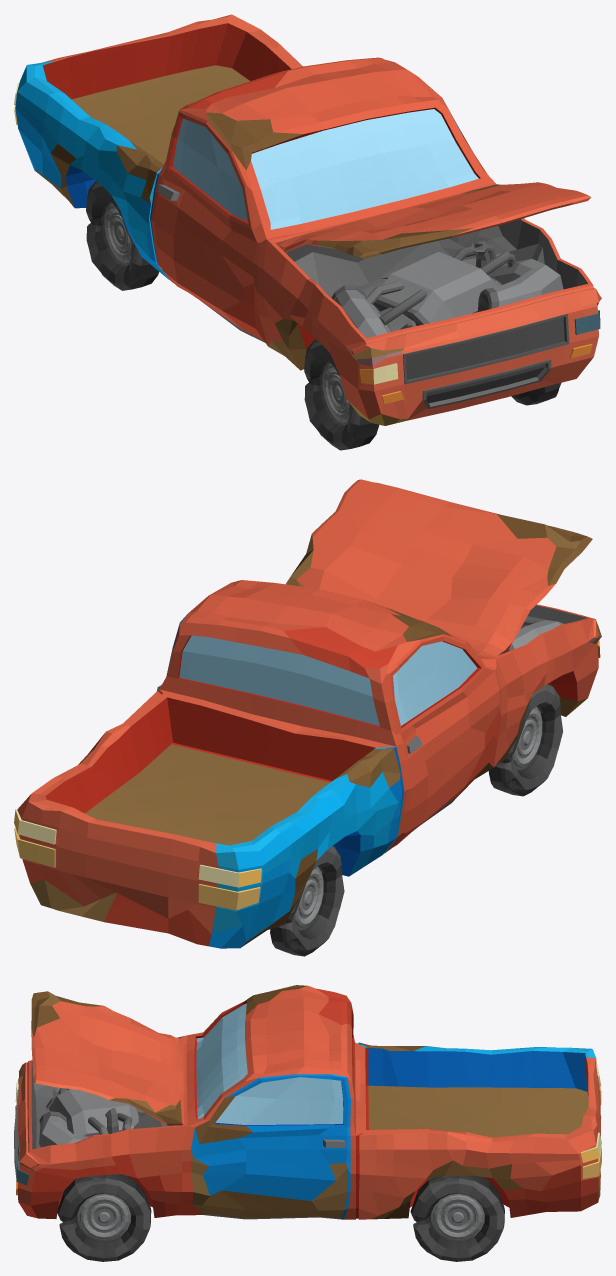
File: pickup_2.glb
The picture shows the model from 3 angles, top to bottom: view 1: azimuth 30°, elevation 25°; view 2: azimuth 150°, elevation 25°; view 3: azimuth 270°, elevation 25°; orthographic projection. The views are drawn at different scales.
Visible parts, largest first — view 1: car2, engine_2, car_wheel.006, car_wheel.007, car_wheel.009; view 2: car2, car_wheel.006, car_wheel.007, engine_2; view 3: car2, car_wheel.009, car_wheel.008, engine_2.
Part boxes in pixels (<box>): car2: <box>14,14,601,425</box>; engine_2: <box>331,244,563,338</box>; car_wheel.006: <box>304,338,379,450</box>; car_wheel.007: <box>86,181,158,290</box>; car_wheel.009: <box>511,382,561,405</box>; car2: <box>14,479,601,948</box>; car_wheel.006: <box>488,684,563,796</box>; car_wheel.007: <box>270,846,344,956</box>; engine_2: <box>499,616,563,654</box>; car2: <box>14,985,601,1219</box>; car_wheel.009: <box>57,1174,151,1261</box>; car_wheel.008: <box>410,1175,504,1261</box>; engine_2: <box>33,1080,139,1174</box>.
Size of the model in its own units: 2.08 by 1.93 by 5.08.
1 material, 1 textured.
